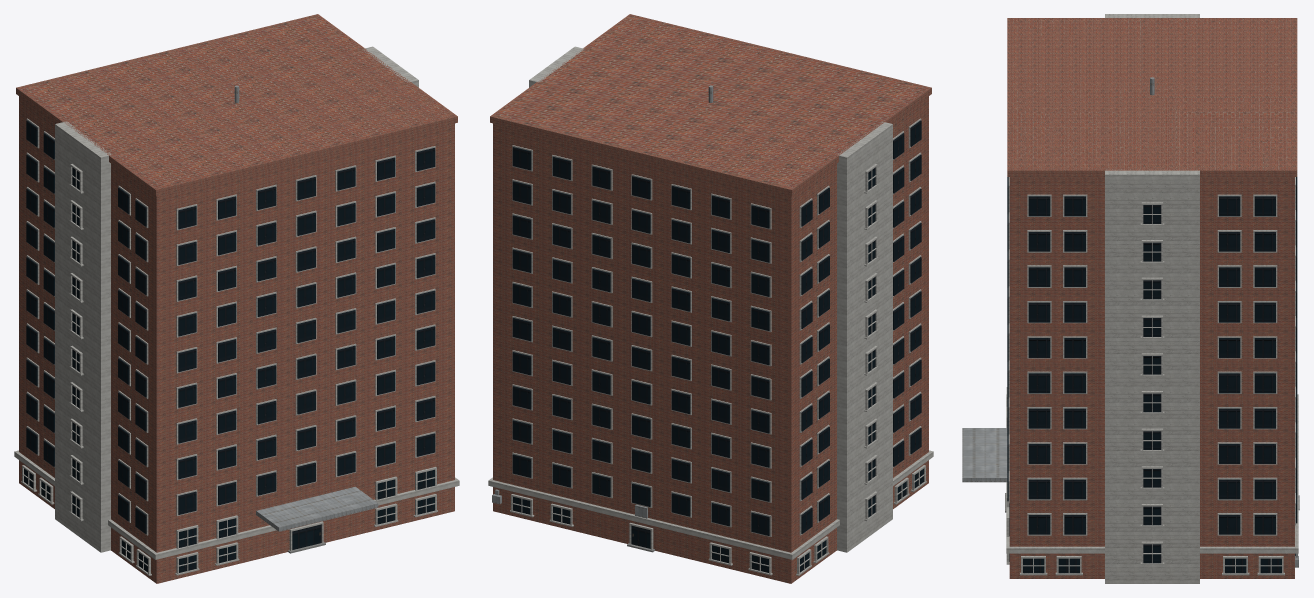
The model's file is university-quarter-dorms_lod0.gltf.
The picture shows the model from 3 angles, left to right: view 1: azimuth 30°, elevation 25°; view 2: azimuth 150°, elevation 25°; view 3: azimuth 270°, elevation 25°; orthographic projection. The views are drawn at different scales.
Parts seen in each view (by area): view 1: university-quarter-dorms_main, university-quarter-dorms_fen_07-glass-curtain-blue_1_t, university-quarter-dorms__parapet, university-quarter-dorms__stair_tower_a, university-quarter-dorms_fen_15-concrete-boardformed_0, university-quarter-dorms__canopy, university-quarter-dorms__trim_band, university-quarter-dorms__stair_tower_b; view 2: university-quarter-dorms_main, university-quarter-dorms_fen_07-glass-curtain-blue_1_t, university-quarter-dorms__stair_tower_a, university-quarter-dorms_fen_15-concrete-boardformed_0, university-quarter-dorms__parapet, university-quarter-dorms__trim_band; view 3: university-quarter-dorms_main, university-quarter-dorms__parapet, university-quarter-dorms__stair_tower_b, university-quarter-dorms_fen_07-glass-curtain-blue_1_t, university-quarter-dorms_fen_15-concrete-boardformed_0, university-quarter-dorms__canopy, university-quarter-dorms__trim_band.
Part boxes in pixels (x1=…): university-quarter-dorms_main: x1=19, y1=15, x2=454, y2=583; university-quarter-dorms_fen_07-glass-curtain-blue_1_t: x1=24, y1=120, x2=435, y2=572; university-quarter-dorms__parapet: x1=16, y1=14, x2=457, y2=196; university-quarter-dorms__stair_tower_a: x1=55, y1=121, x2=112, y2=552; university-quarter-dorms_fen_15-concrete-boardformed_0: x1=21, y1=118, x2=437, y2=575; university-quarter-dorms__canopy: x1=256, y1=486, x2=378, y2=531; university-quarter-dorms__trim_band: x1=14, y1=450, x2=459, y2=559; university-quarter-dorms__stair_tower_b: x1=362, y1=46, x2=418, y2=87; university-quarter-dorms_main: x1=493, y1=15, x2=928, y2=583; university-quarter-dorms_fen_07-glass-curtain-blue_1_t: x1=512, y1=120, x2=923, y2=572; university-quarter-dorms__stair_tower_a: x1=835, y1=121, x2=892, y2=552; university-quarter-dorms_fen_15-concrete-boardformed_0: x1=510, y1=118, x2=926, y2=575; university-quarter-dorms__parapet: x1=490, y1=14, x2=931, y2=196; university-quarter-dorms__trim_band: x1=488, y1=450, x2=933, y2=559; university-quarter-dorms_main: x1=1009, y1=19, x2=1294, y2=578; university-quarter-dorms__parapet: x1=1007, y1=18, x2=1297, y2=176; university-quarter-dorms__stair_tower_b: x1=1105, y1=169, x2=1199, y2=583; university-quarter-dorms_fen_07-glass-curtain-blue_1_t: x1=1007, y1=177, x2=1297, y2=573; university-quarter-dorms_fen_15-concrete-boardformed_0: x1=1006, y1=177, x2=1298, y2=575; university-quarter-dorms__canopy: x1=962, y1=428, x2=1007, y2=482; university-quarter-dorms__trim_band: x1=1006, y1=394, x2=1298, y2=553.
Bounding box in the file's own units: 32.55 × 39.5 × 28.4.
